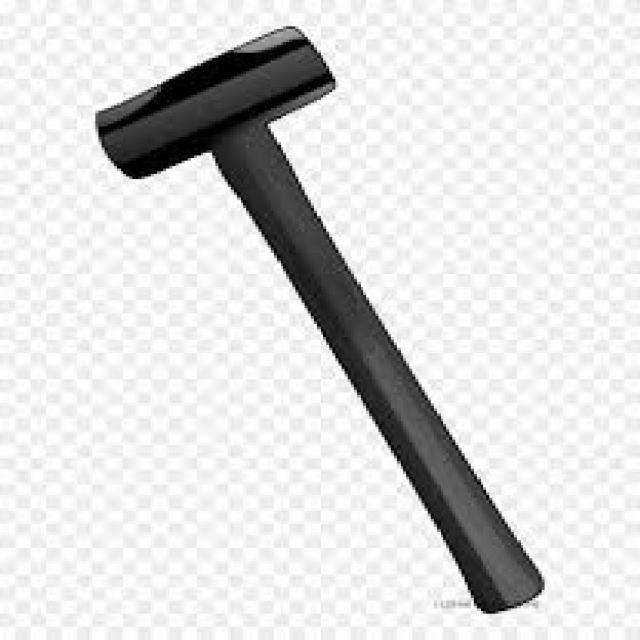hammer: (81, 6, 443, 513)
